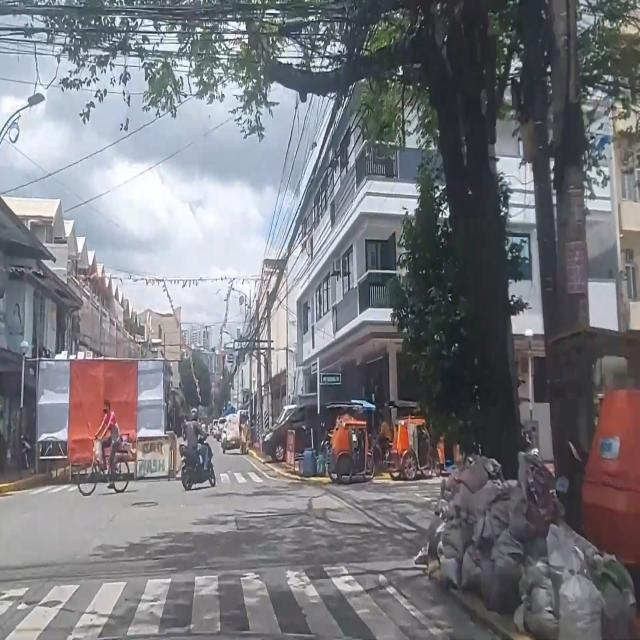bike: (77, 399, 134, 496)
car: (262, 402, 318, 462), (216, 417, 227, 441)
motorcycle: (181, 410, 216, 490)
tricycle: (548, 327, 640, 572), (387, 402, 432, 479), (330, 402, 374, 480), (222, 415, 240, 453)
